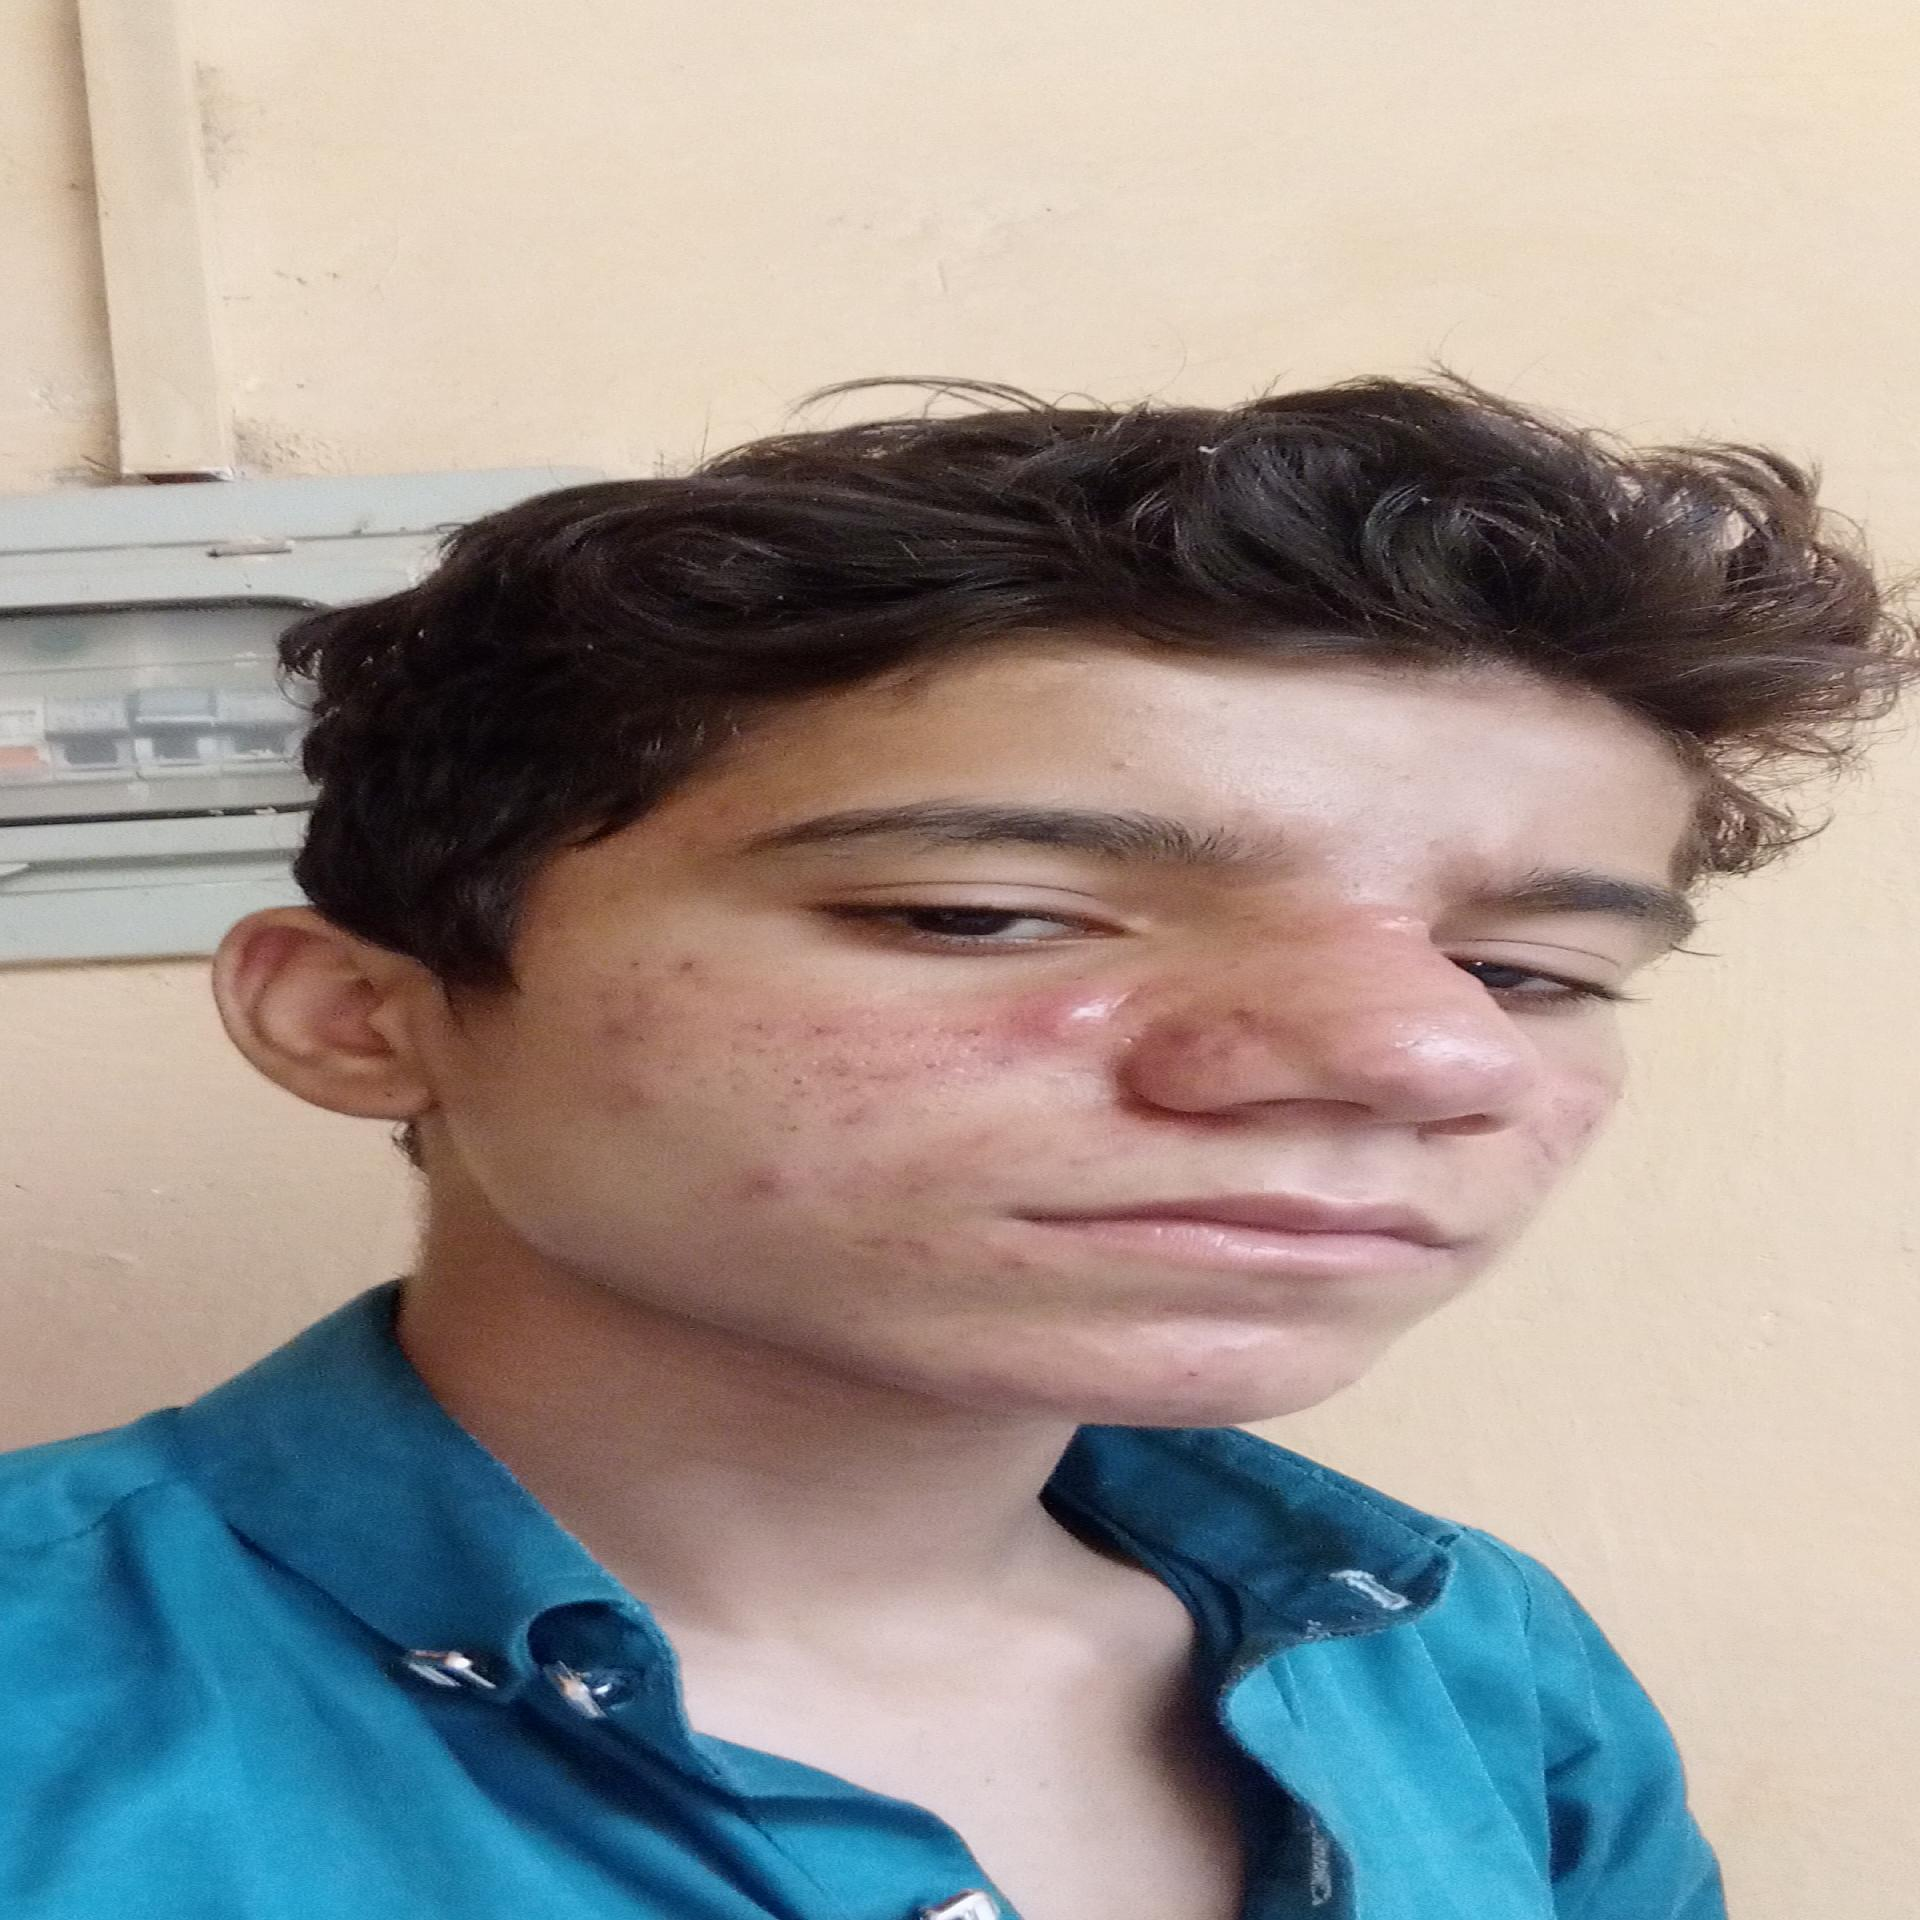Acne: (1018, 988, 1101, 1036), (710, 1162, 809, 1196), (1357, 898, 1431, 935), (851, 1231, 934, 1261), (598, 992, 656, 1034), (1097, 753, 1175, 781), (672, 955, 744, 985), (825, 1104, 888, 1136), (985, 1252, 1057, 1278), (608, 1078, 668, 1109), (1160, 1022, 1204, 1051), (1057, 1152, 1116, 1173), (1182, 1366, 1231, 1385), (1213, 1041, 1254, 1064), (1220, 1002, 1261, 1025)
Englarged Pores: (691, 1023, 993, 1104), (1533, 1088, 1619, 1159)
